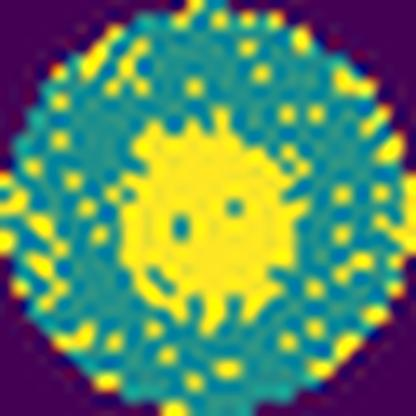Center: (117, 110, 303, 331)
